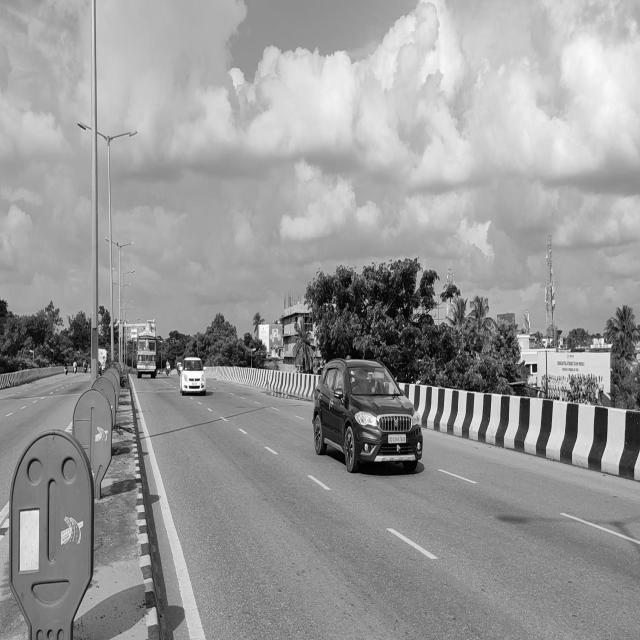car: (310, 354, 424, 485), (180, 351, 214, 406)
truck: (133, 326, 158, 387)
